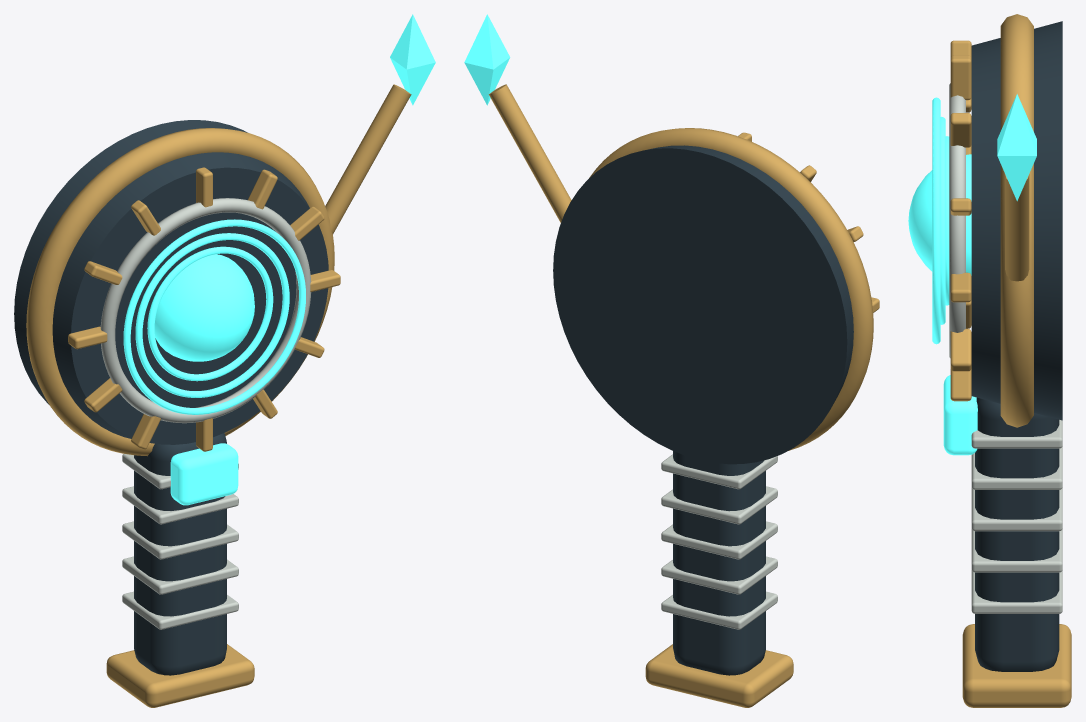
File: wuwa.glb
3 renders of one model, left to right at view 1: azimuth 30°, elevation 25°; view 2: azimuth 150°, elevation 25°; view 3: azimuth 270°, elevation 25°, orthographic. The views are drawn at different scales.
Visible parts, largest first — view 1: Resonance sensor, Orbit (×2), Hand grip, Wave ring (×3), Resonance core, Grip rib (×4), Heel, Display, Antenna, Faceted crystal, Frequency scale (×2); view 2: Resonance sensor, Hand grip, Orbit, Grip rib (×5), Heel, Antenna, Faceted crystal; view 3: Resonance sensor, Hand grip, Orbit (×2), Grip rib (×5), Heel, Frequency scale (×7), Wave ring (×3), Faceted crystal, Resonance core, Antenna, Display.
Part boxes in pixels (bbox=[...]): Resonance sensor: bbox=[14, 120, 328, 444]; Orbit (×2): bbox=[26, 128, 334, 456]; Hand grip: bbox=[134, 433, 226, 675]; Wave ring (×3): bbox=[123, 219, 305, 414]; Resonance core: bbox=[154, 254, 254, 361]; Grip rib (×4): bbox=[122, 486, 238, 629]; Heel: bbox=[106, 644, 254, 707]; Display: bbox=[170, 443, 238, 505]; Antenna: bbox=[325, 84, 411, 233]; Faceted crystal: bbox=[390, 14, 435, 105]; Frequency scale (×2): bbox=[84, 169, 277, 412]; Resonance sensor: bbox=[553, 145, 853, 464]; Hand grip: bbox=[673, 451, 765, 675]; Orbit: bbox=[589, 128, 873, 450]; Grip rib (×5): bbox=[661, 454, 777, 629]; Heel: bbox=[645, 644, 793, 707]; Antenna: bbox=[488, 84, 571, 222]; Faceted crystal: bbox=[464, 14, 510, 105]; Resonance sensor: bbox=[971, 21, 1062, 420]; Hand grip: bbox=[975, 397, 1059, 671]; Orbit (×2): bbox=[949, 14, 1033, 427]; Grip rib (×5): bbox=[971, 420, 1062, 613]; Heel: bbox=[962, 624, 1071, 707]; Frequency scale (×7): bbox=[950, 40, 971, 401]; Wave ring (×3): bbox=[932, 97, 949, 344]; Faceted crystal: bbox=[997, 94, 1036, 201]; Resonance core: bbox=[908, 154, 971, 275]; Antenna: bbox=[1005, 174, 1029, 281]; Display: bbox=[943, 375, 977, 455].
Bounding box in the file's own units: 1.55 × 2.27 × 0.465.
